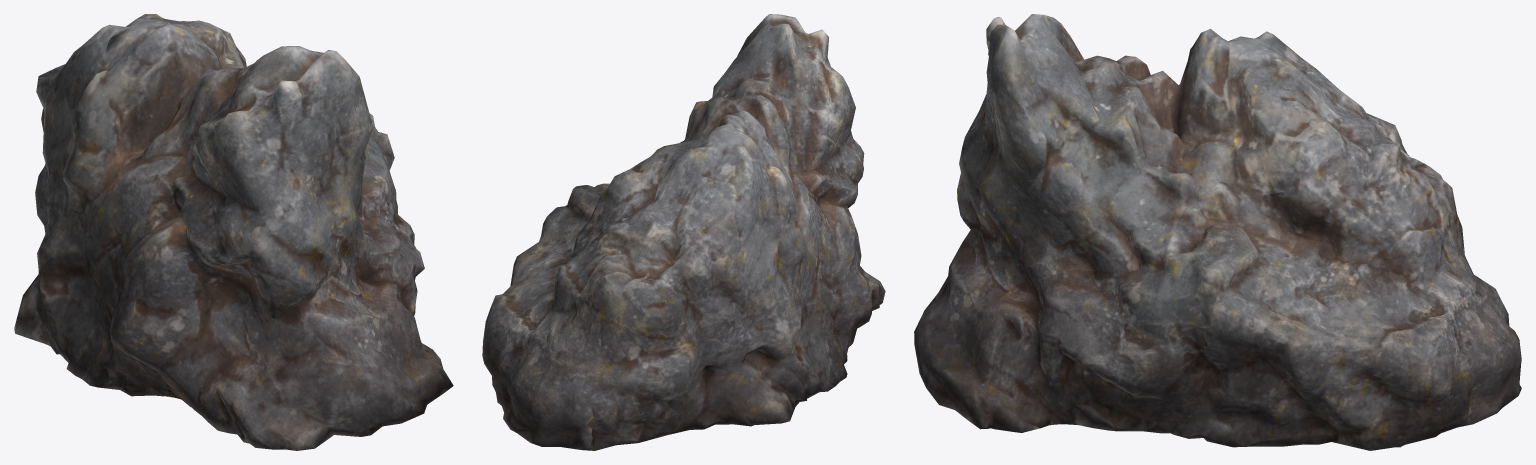
The model's file is rock_d.glb.
3 renders of one model, left to right at view 1: azimuth 30°, elevation 25°; view 2: azimuth 150°, elevation 25°; view 3: azimuth 270°, elevation 25°, orthographic. The views are drawn at different scales.
Visible parts, largest first — view 1: D_Rock_Formation_CM; view 2: D_Rock_Formation_CM; view 3: D_Rock_Formation_CM.
Boxes of the visible parts, box(x1,y1,x2,y2) form: D_Rock_Formation_CM: box(14, 14, 453, 450); D_Rock_Formation_CM: box(482, 14, 885, 450); D_Rock_Formation_CM: box(914, 14, 1521, 450).
Size of the model in its own units: 24.25 by 24.03 by 37.85.
Materials: 1 (1 with a texture image).
